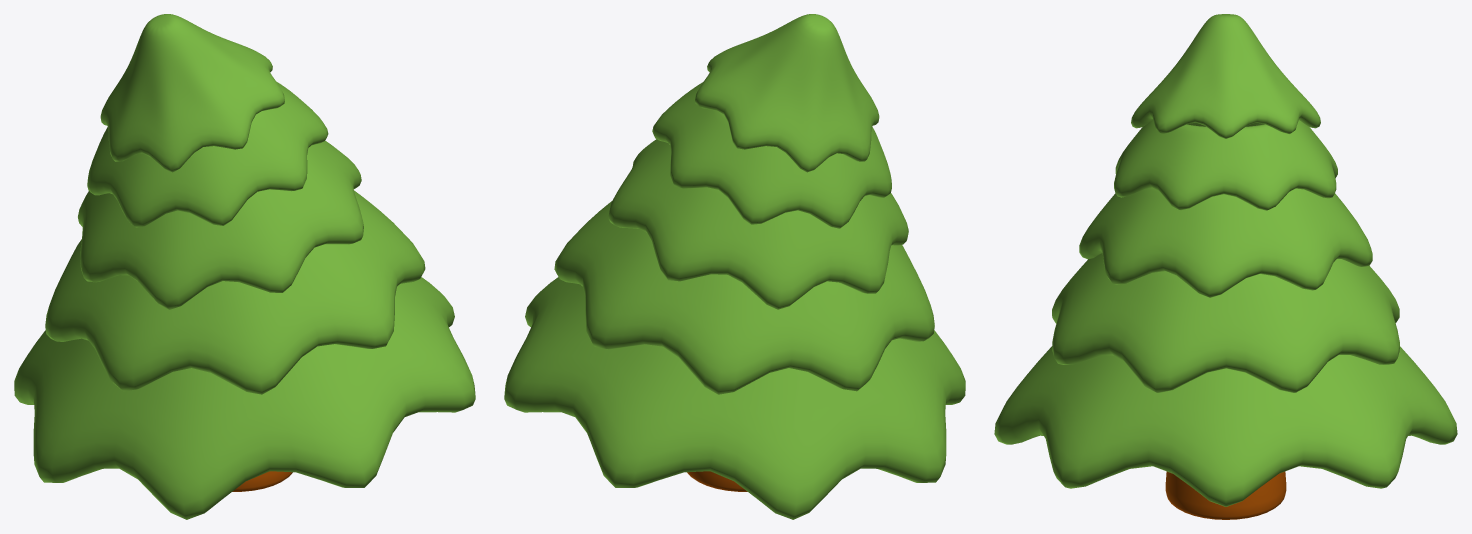
The model's file is Tree7.fbx.
3 renders of one model, left to right at view 1: azimuth 30°, elevation 25°; view 2: azimuth 150°, elevation 25°; view 3: azimuth 270°, elevation 25°, orthographic. The views are drawn at different scales.
Visible parts, largest first — view 1: Cylinder.030, Cylinder.031, Cylinder.032, Cylinder.034, Cylinder.033, Cylinder.035; view 2: Cylinder.030, Cylinder.031, Cylinder.032, Cylinder.034, Cylinder.033, Cylinder.035; view 3: Cylinder.030, Cylinder.031, Cylinder.032, Cylinder.033, Cylinder.034, Cylinder.035.
Boxes of the visible parts, left/top/right/bottom form: Cylinder.030: left=14, top=277, right=475, bottom=519; Cylinder.031: left=45, top=190, right=425, bottom=394; Cylinder.032: left=78, top=140, right=363, bottom=309; Cylinder.034: left=100, top=14, right=284, bottom=172; Cylinder.033: left=87, top=82, right=328, bottom=227; Cylinder.035: left=232, top=471, right=292, bottom=491; Cylinder.030: left=504, top=277, right=965, bottom=519; Cylinder.031: left=554, top=201, right=934, bottom=394; Cylinder.032: left=608, top=139, right=908, bottom=309; Cylinder.034: left=695, top=14, right=879, bottom=172; Cylinder.033: left=652, top=82, right=891, bottom=228; Cylinder.035: left=687, top=471, right=747, bottom=491; Cylinder.030: left=994, top=346, right=1457, bottom=506; Cylinder.031: left=1052, top=253, right=1399, bottom=392; Cylinder.032: left=1079, top=188, right=1372, bottom=297; Cylinder.033: left=1114, top=120, right=1337, bottom=210; Cylinder.034: left=1131, top=14, right=1320, bottom=138; Cylinder.035: left=1165, top=471, right=1286, bottom=519.
Size of the model in its own units: 276 by 299 by 279.
